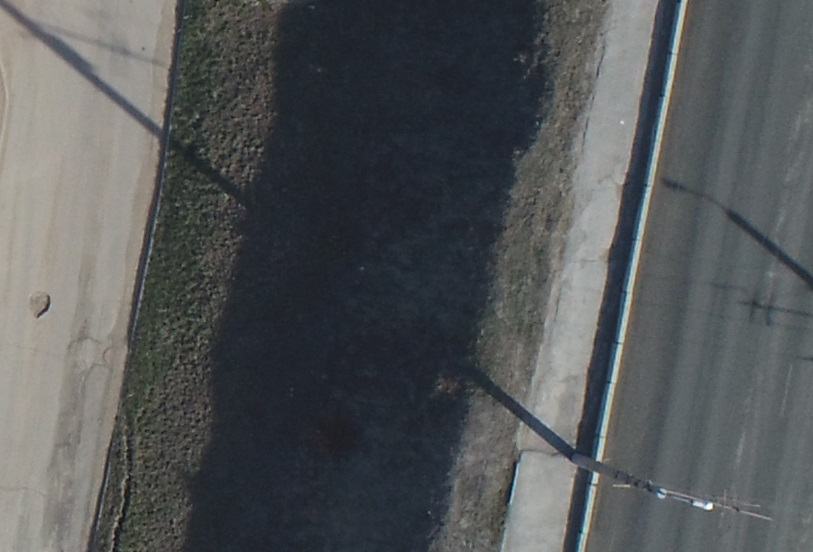opora: (506, 386, 720, 520)
